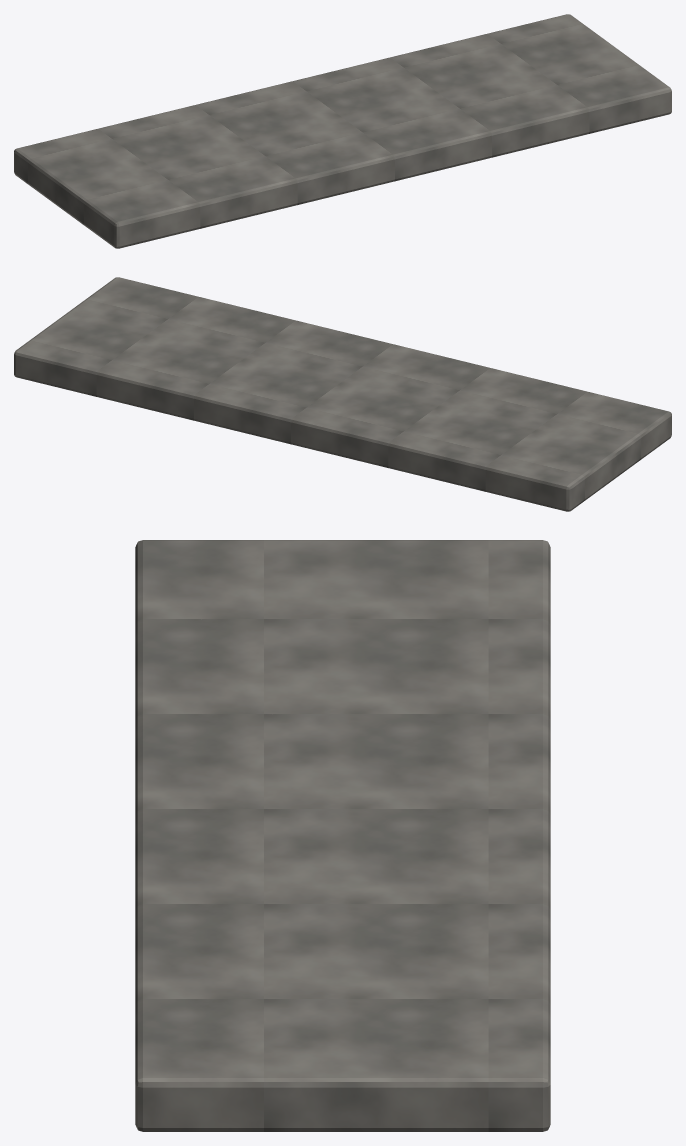
Rendered from Street_BlockL5_Coping.obj.
3 views of the same model, one above another, from view 1: azimuth 30°, elevation 25°; view 2: azimuth 150°, elevation 25°; view 3: azimuth 270°, elevation 25° (orthographic). The views are drawn at different scales.
Size of the model in its own units: 2.6 by 0.12 by 0.84.
Materials: 1 (1 with a texture image).
